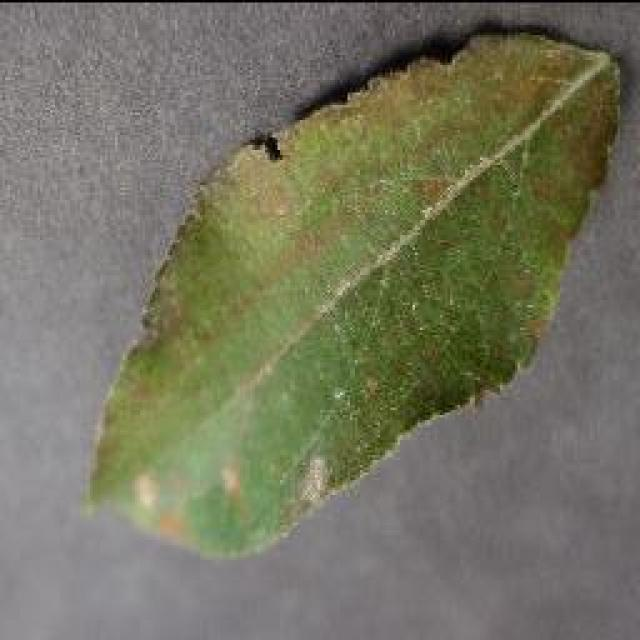apple cedar apple rust: (82, 22, 622, 560)
